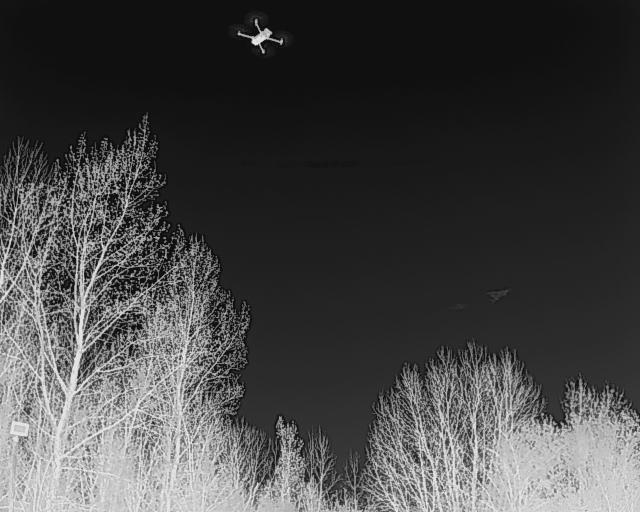drone: (234, 14, 292, 71)
